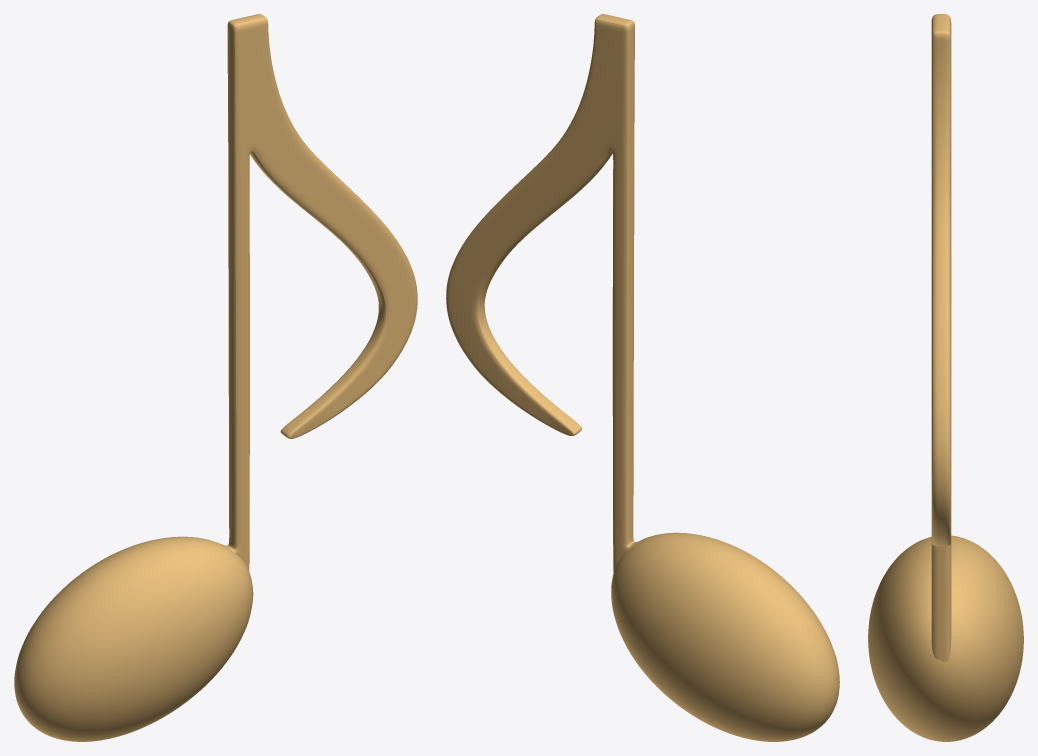
The model's file is Nota 2.glb.
3 views of the same model, side by side, from view 1: azimuth 30°, elevation 25°; view 2: azimuth 150°, elevation 25°; view 3: azimuth 270°, elevation 25° (orthographic). The views are drawn at different scales.
Visible parts, largest first — view 1: Retopo_Layer_1.003; view 2: Retopo_Layer_1.003; view 3: Retopo_Layer_1.003.
Part boxes in pixels (x1,y1,x2,y2): Retopo_Layer_1.003: (14, 14, 417, 741); Retopo_Layer_1.003: (446, 14, 839, 741); Retopo_Layer_1.003: (868, 14, 1023, 741).
Bounding box in the file's own units: 1.23 × 2.05 × 0.3699.
